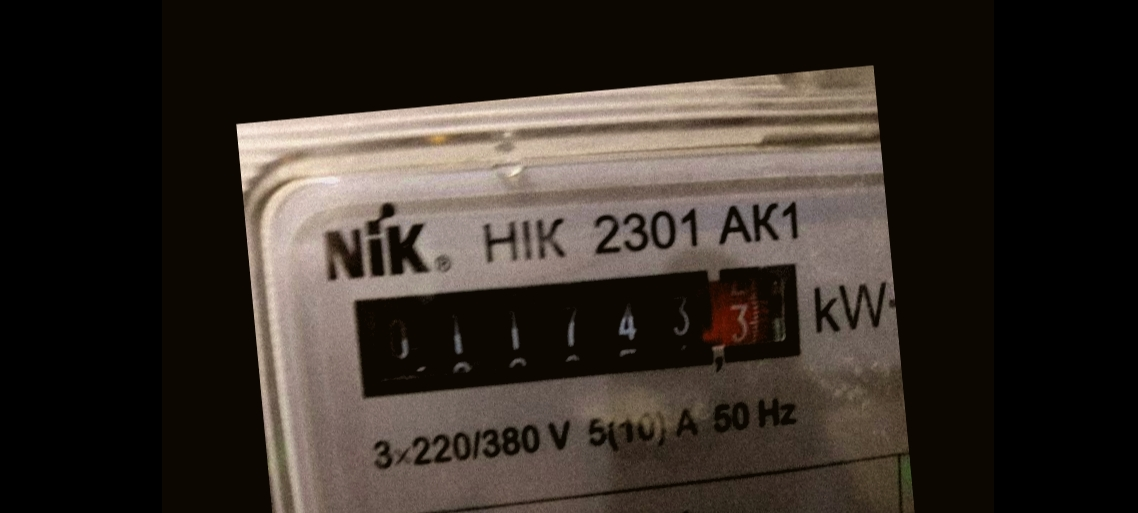0: (382, 313, 416, 362)
1: (502, 304, 527, 353), (447, 309, 469, 358)
3: (666, 290, 698, 339), (727, 299, 755, 345)
4: (612, 294, 644, 344)
7: (558, 300, 586, 350)
screen: (338, 249, 813, 409)
